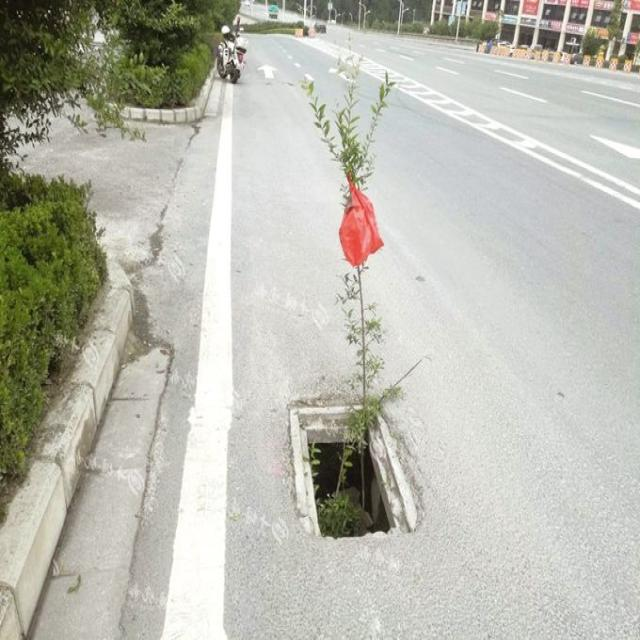manhole-cover: (276, 334, 432, 570)
